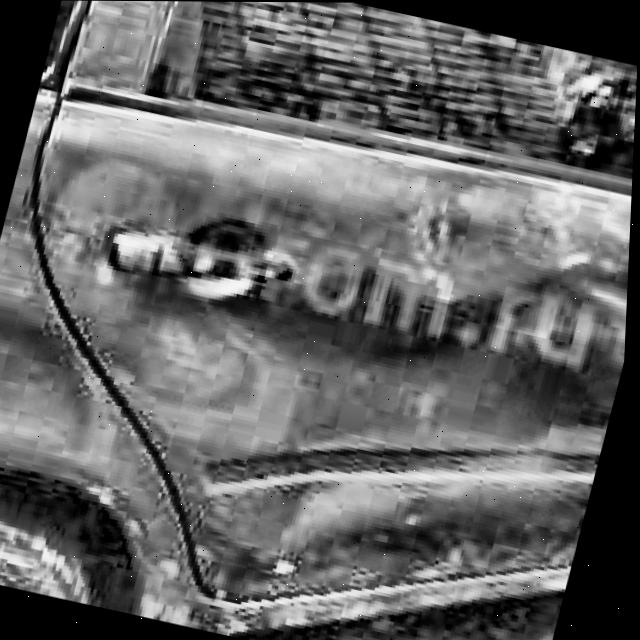door_dent: (100, 188, 632, 609)
